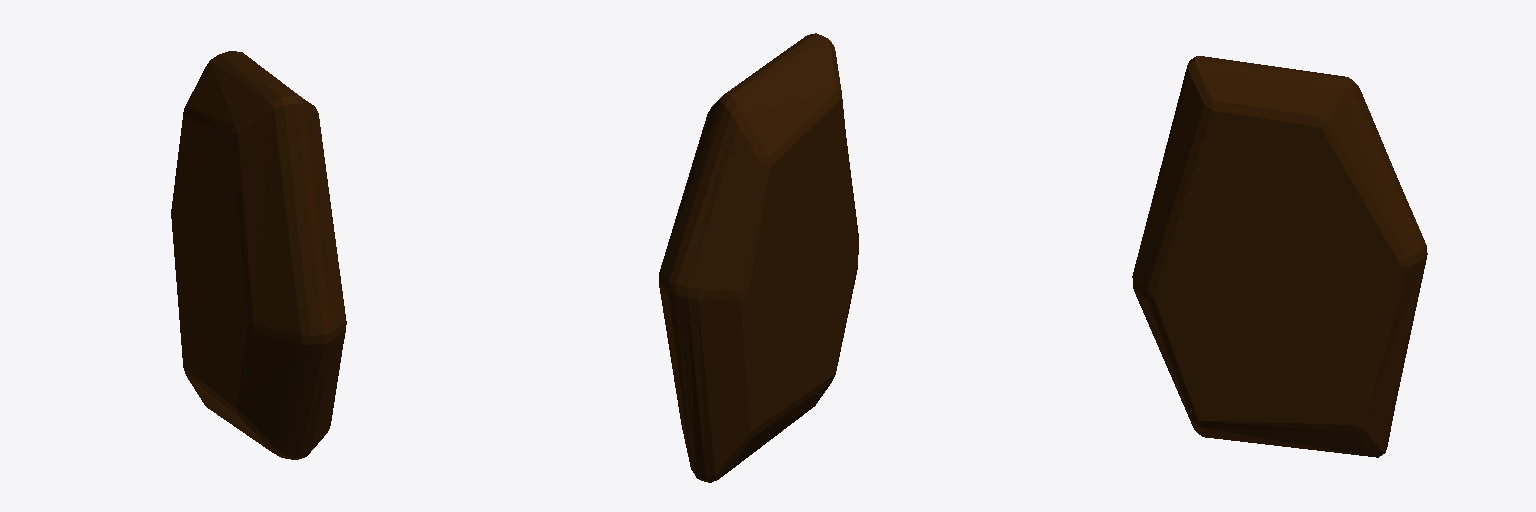
The model's file is single_rune.obj.
3 views of the same model, side by side, from view 1: azimuth 30°, elevation 25°; view 2: azimuth 150°, elevation 25°; view 3: azimuth 270°, elevation 25° (orthographic).
Visible parts, largest first — view 1: RUNES.001; view 2: RUNES.001; view 3: RUNES.001.
Part boxes in pixels (bbox=[...]): RUNES.001: bbox=[171, 51, 346, 459]; RUNES.001: bbox=[659, 33, 858, 482]; RUNES.001: bbox=[1132, 56, 1427, 457].
Size of the model in its own units: 0.5445 by 2.07 by 1.43.